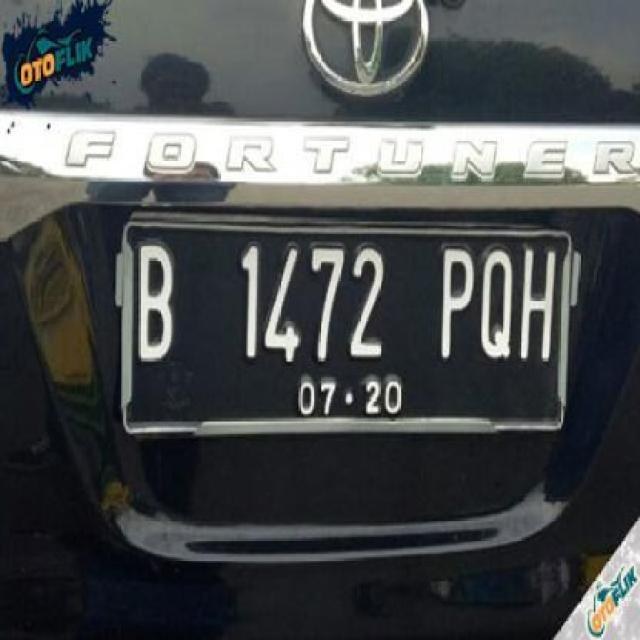1: (234, 238, 263, 364)
2: (350, 238, 388, 367)
4: (263, 236, 303, 370)
7: (304, 238, 348, 370)
B: (132, 234, 180, 370)
H: (518, 249, 556, 368)
P: (436, 242, 478, 362)
Q: (478, 249, 518, 362)
